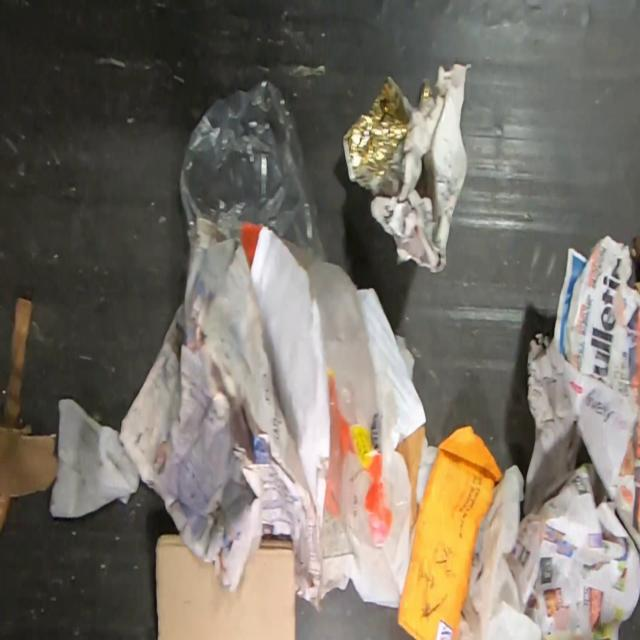cardboard: (155, 535, 298, 640)
soft_plastic: (178, 78, 402, 557)
